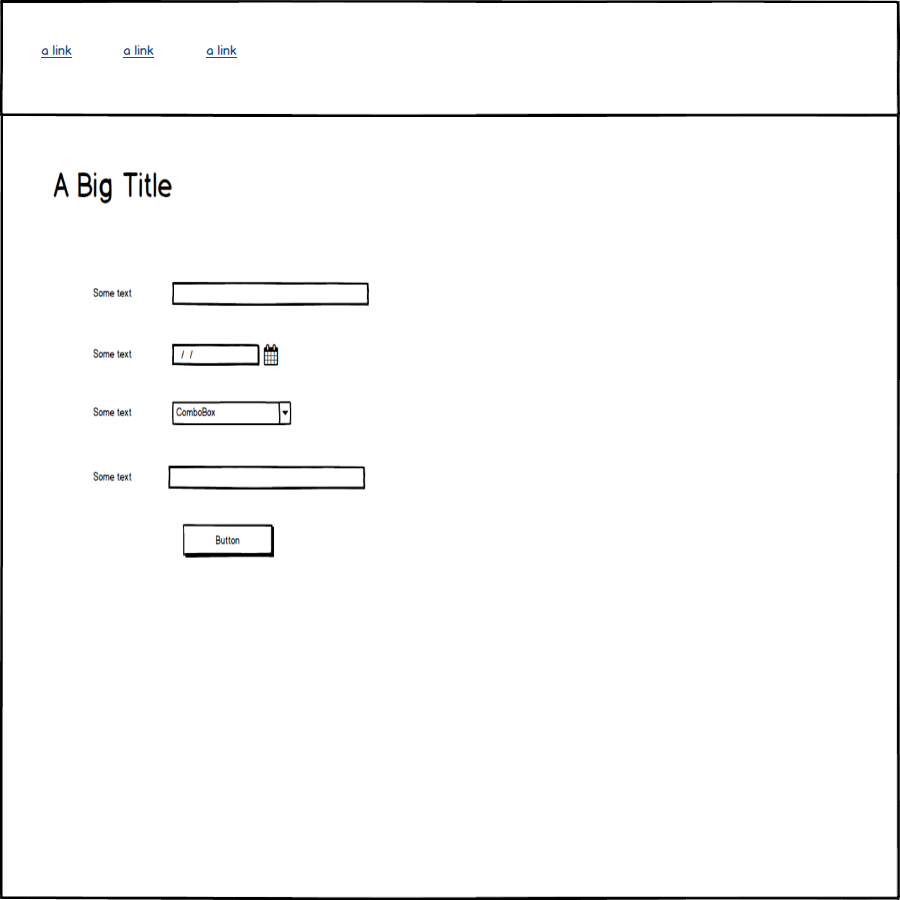button: (179, 519, 278, 560)
date_picker: (165, 338, 287, 370)
h1: (38, 164, 182, 211)
input: (160, 460, 372, 495), (168, 277, 375, 308)
label: (83, 399, 138, 425), (87, 462, 138, 489), (86, 340, 138, 366), (86, 281, 138, 306)
navlink: (204, 37, 242, 66), (38, 38, 78, 63), (120, 37, 160, 60)
select_box: (167, 397, 296, 429)
